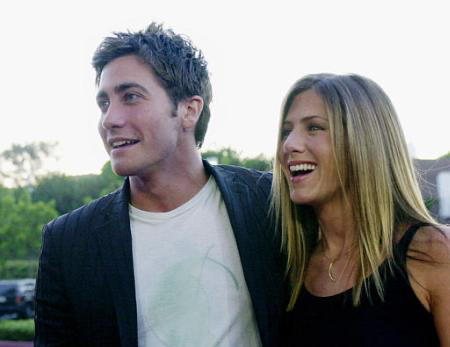Face: (91, 60, 177, 179), (272, 98, 348, 207)
